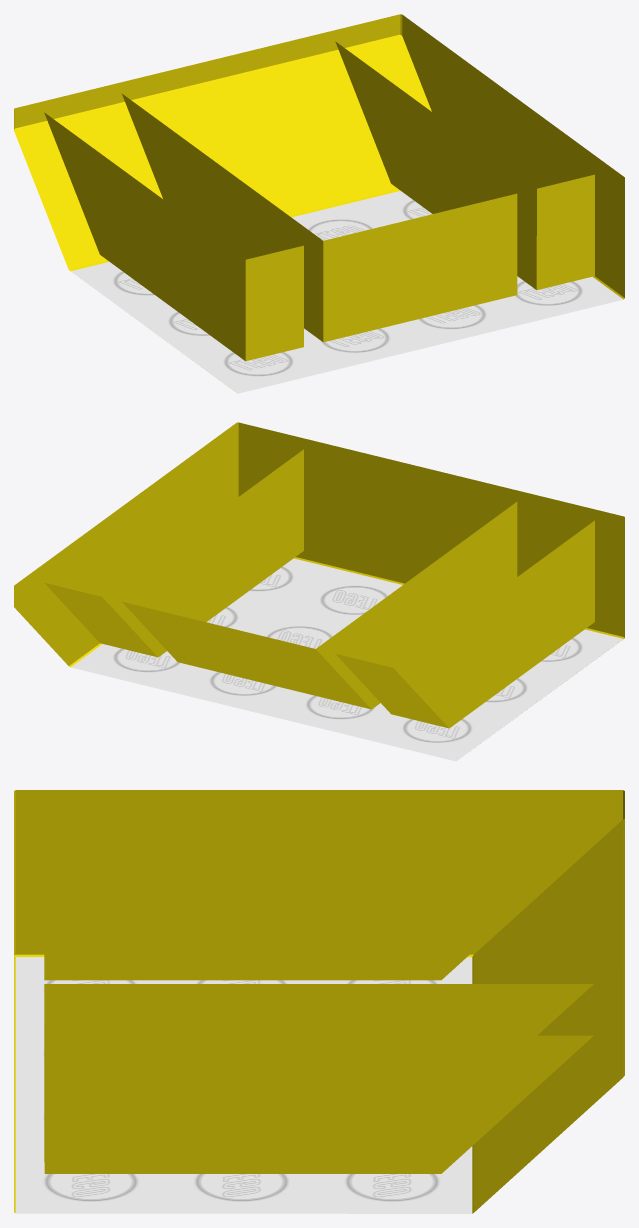
3 views of the same model, one above another, from view 1: azimuth 30°, elevation 25°; view 2: azimuth 150°, elevation 25°; view 3: azimuth 270°, elevation 25° (orthographic). The views are drawn at different scales.
Parts seen in each view (by area): view 1: 004_L_3018200_PART_1; view 2: 004_L_3018200_PART_1; view 3: 004_L_3018200_PART_1.
Part boxes in pixels (x1,y1,x2,y2): 004_L_3018200_PART_1: (14, 14, 624, 393); 004_L_3018200_PART_1: (14, 422, 624, 761); 004_L_3018200_PART_1: (14, 790, 624, 1213).
Bounding box in the file's own units: 3.2 × 0.9608 × 3.2.
Materials: 2 (1 with a texture image).
